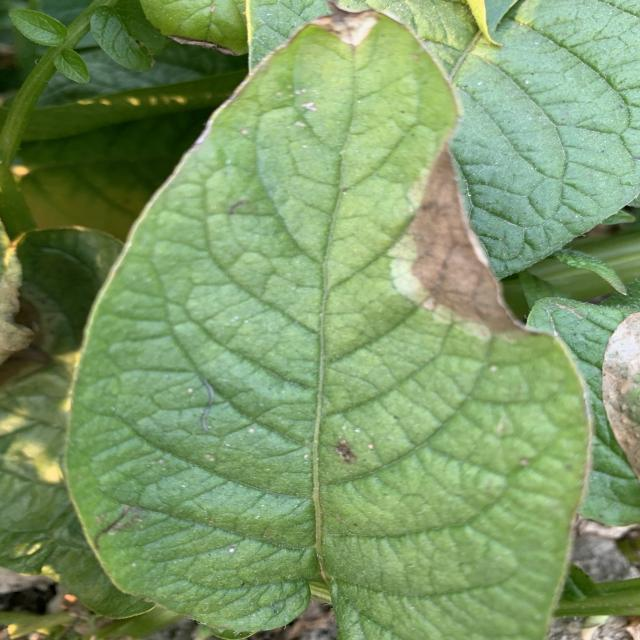lateblight: (408, 149, 522, 332), (310, 0, 380, 46)
